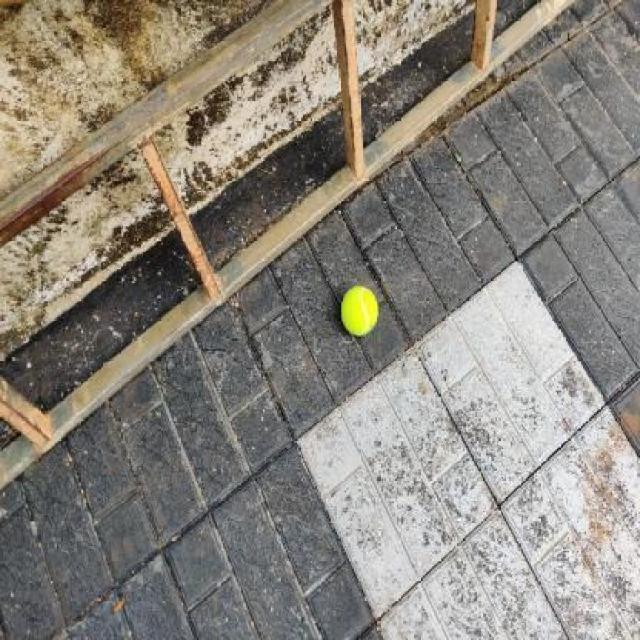-: (320, 271, 397, 352)
